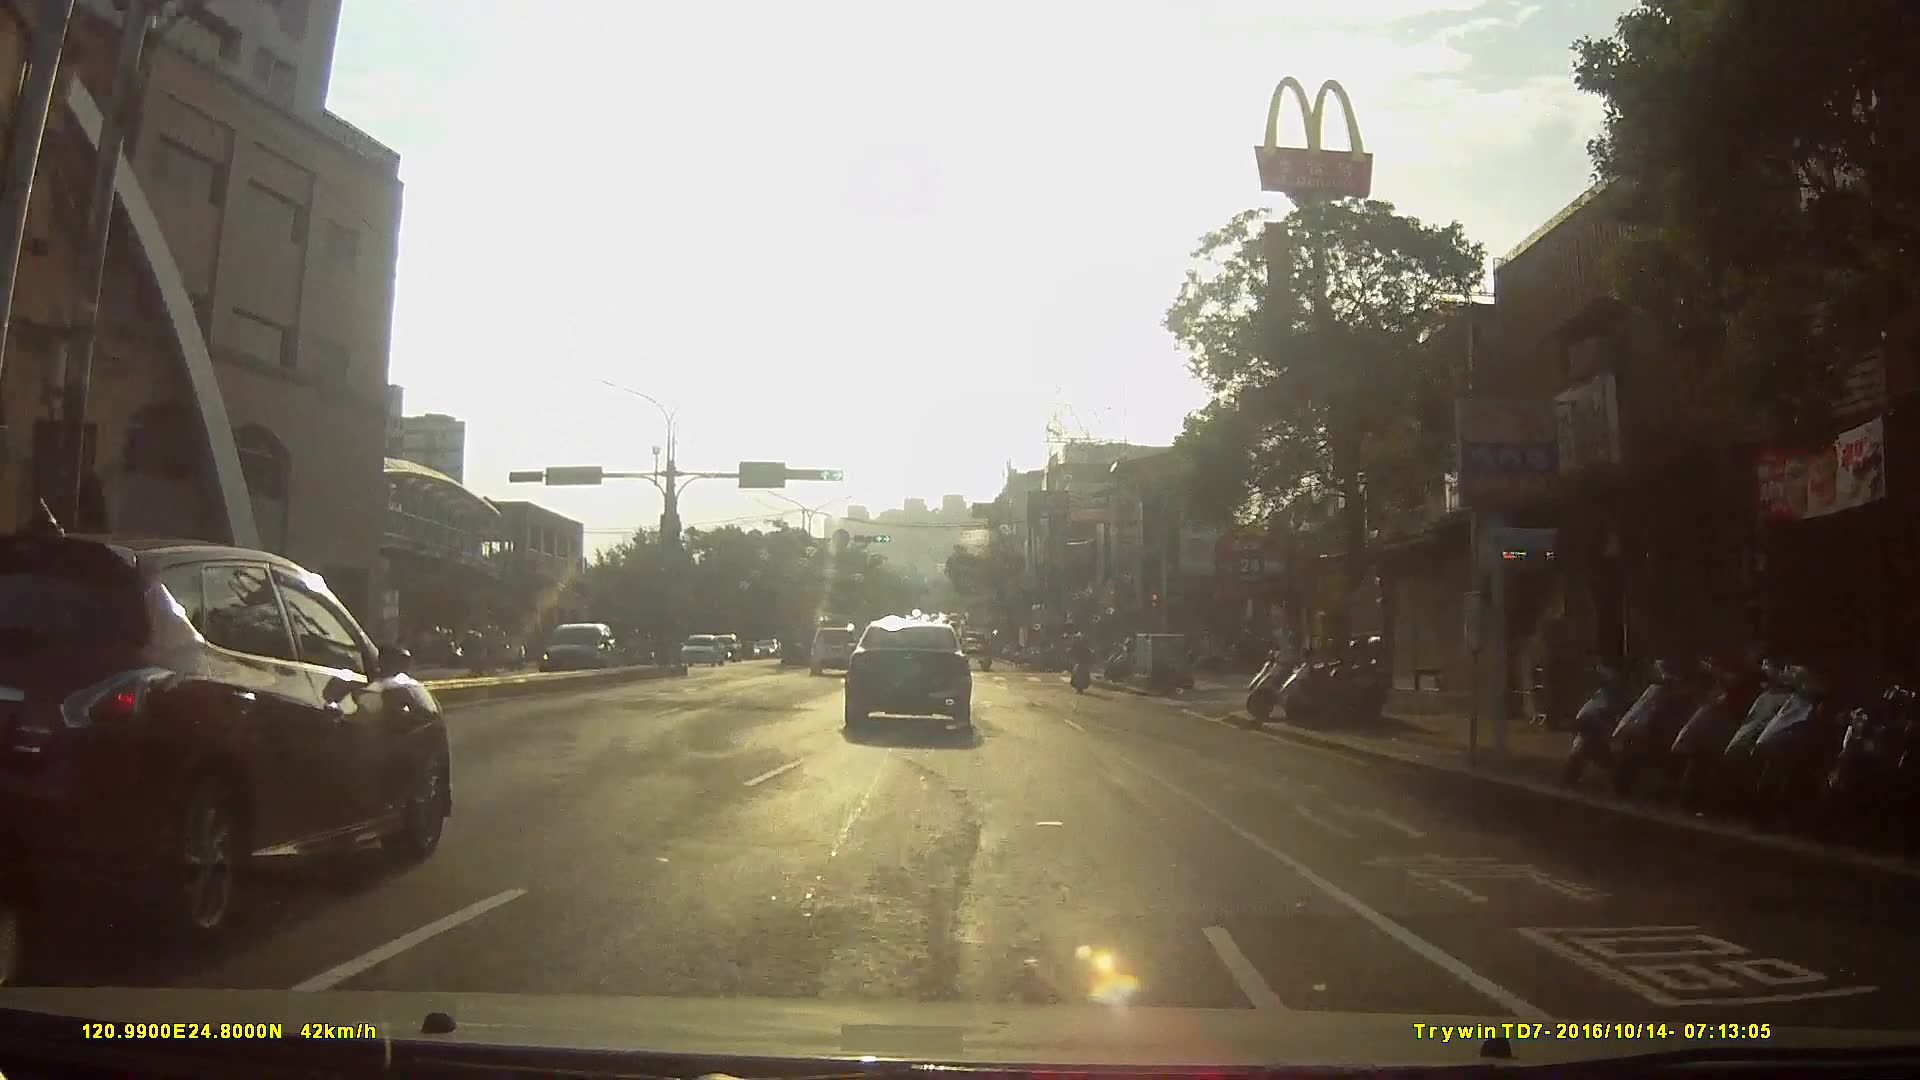rider: (1071, 626, 1097, 693), (976, 639, 997, 675)
vehicle: (1, 523, 468, 952), (842, 610, 989, 733), (527, 619, 624, 683), (807, 620, 864, 675), (677, 628, 725, 668), (703, 630, 747, 662)
